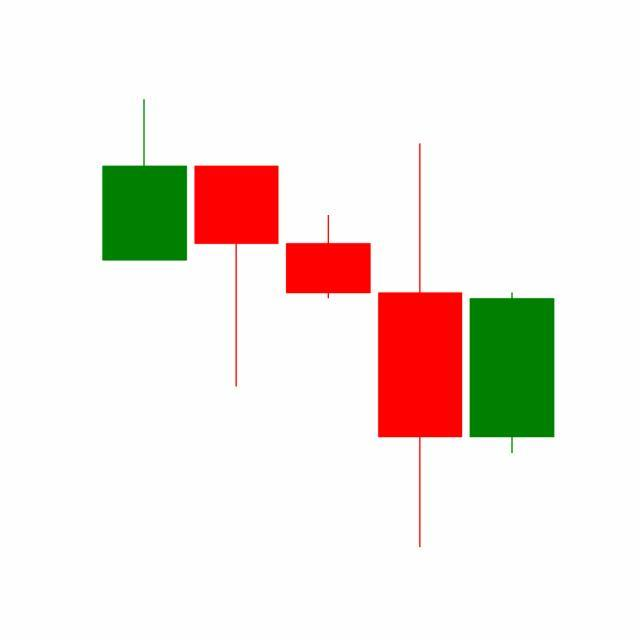Marubozu: (466, 292, 559, 457)
